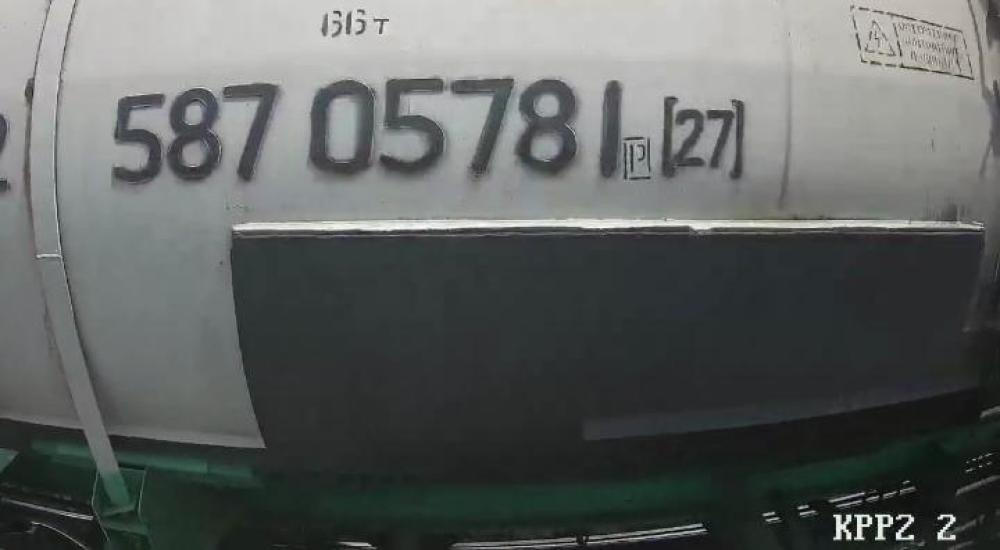Wagon-number: (109, 74, 626, 183)
